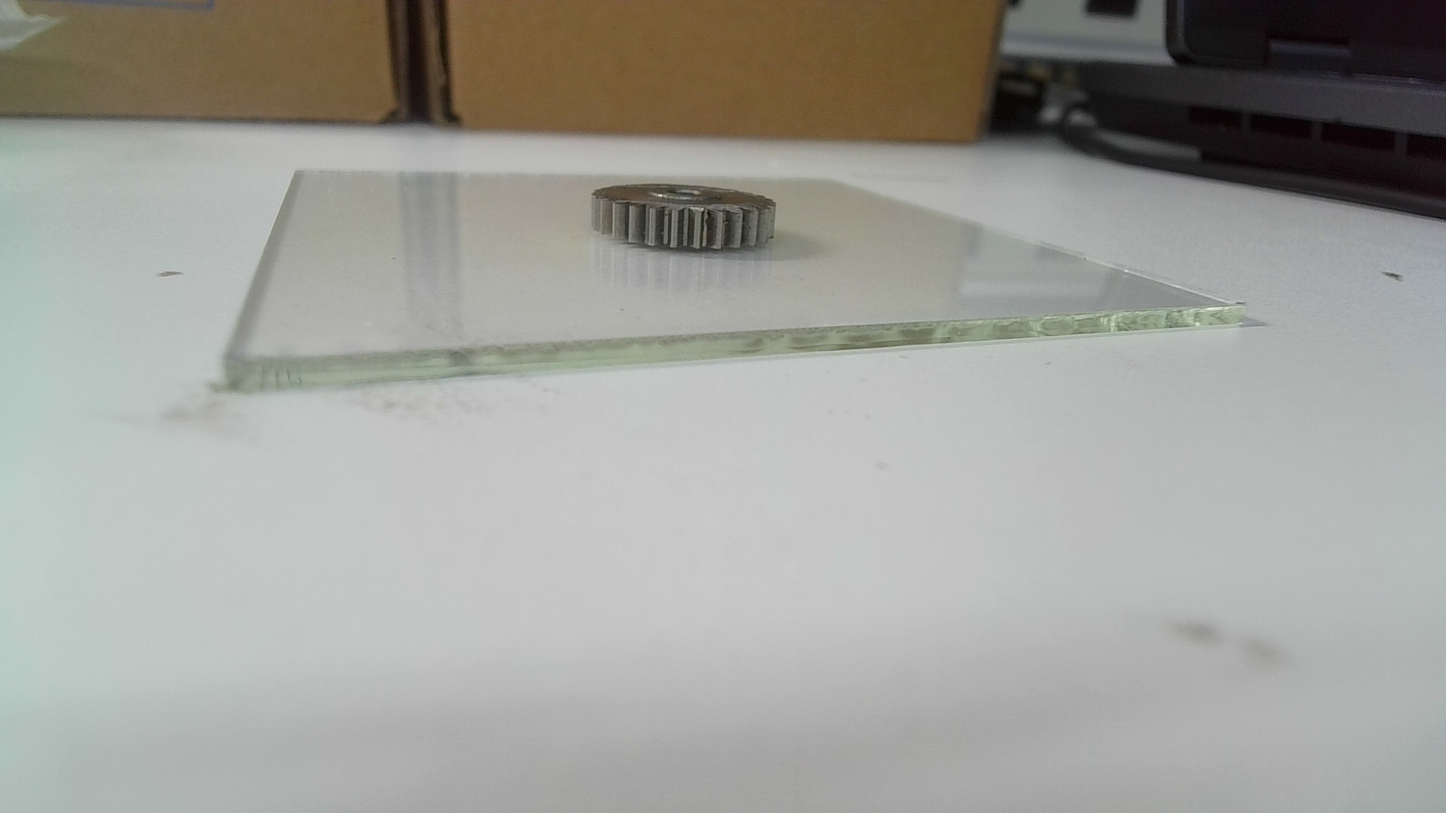gear: (589, 182, 782, 255)
